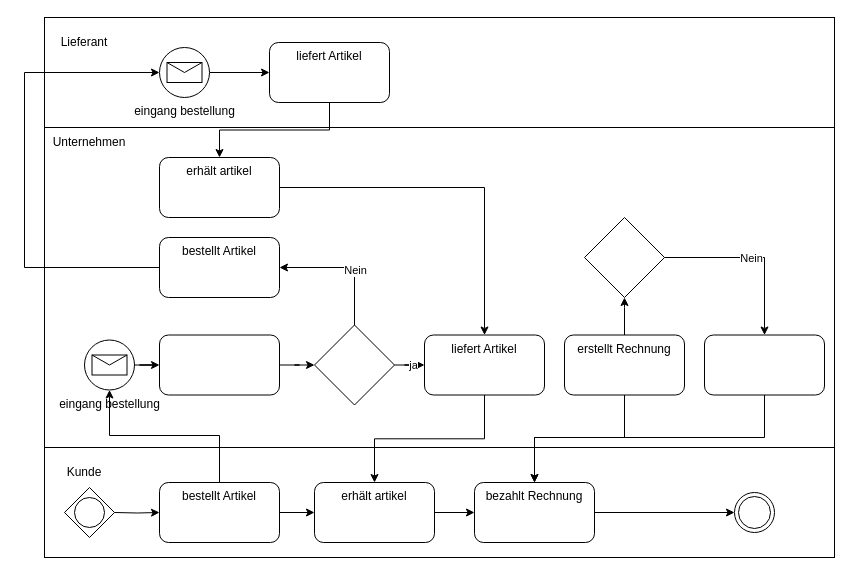
Some shapes in this 852 by 575 pixel diagram are drawn without their labels. The shapes that lost their labels are listed below. From the top down, each one's centre as x and y in pixels, then its label:
point 624,257: rechunung bezahlt?
point 219,364: prüft Bestellung
point 354,364: waren verfügbar?
point 764,364: erstellt Mahnung
